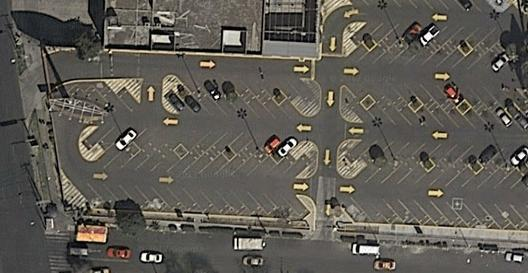parkingspot: (86, 182, 313, 221), (95, 143, 314, 180), (81, 124, 303, 159), (338, 195, 528, 231), (346, 97, 528, 133), (344, 138, 528, 171), (345, 40, 513, 74), (349, 20, 522, 53), (343, 82, 528, 112), (351, 160, 525, 191), (163, 88, 305, 120), (171, 74, 316, 104), (66, 83, 141, 115)
